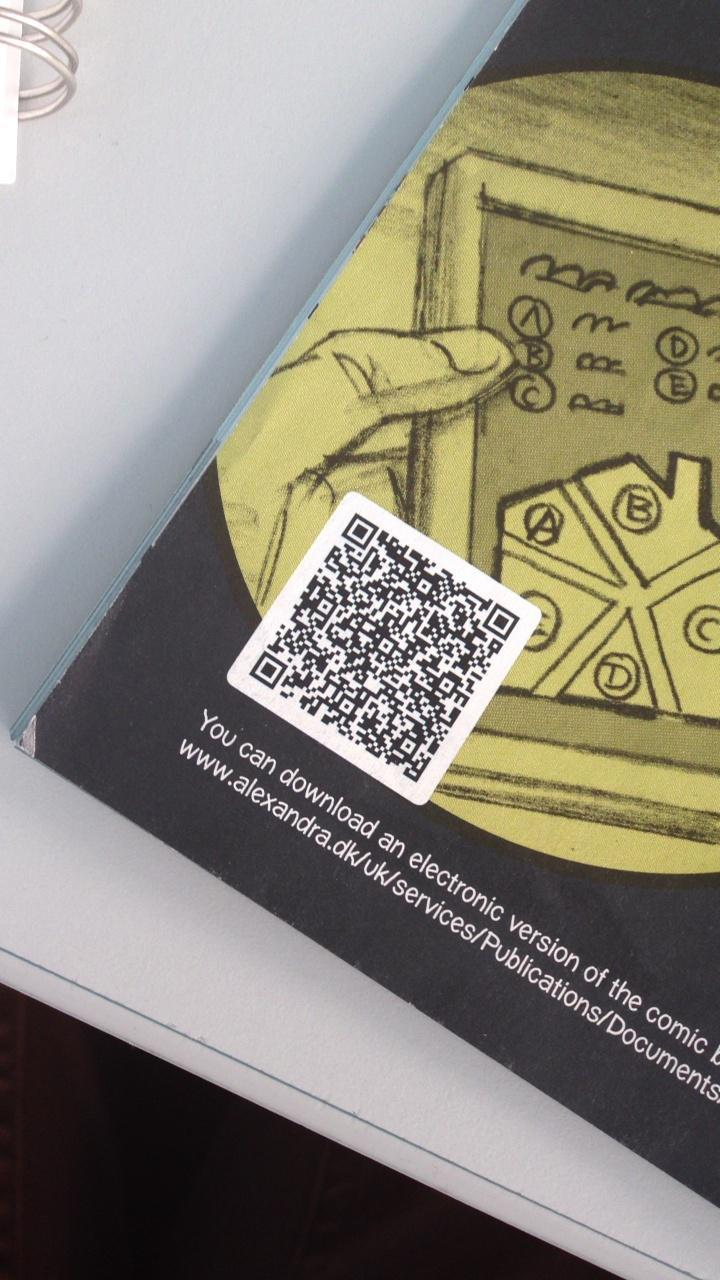Finder pattern: (250, 646, 289, 695), (481, 599, 522, 642), (339, 509, 379, 551)
